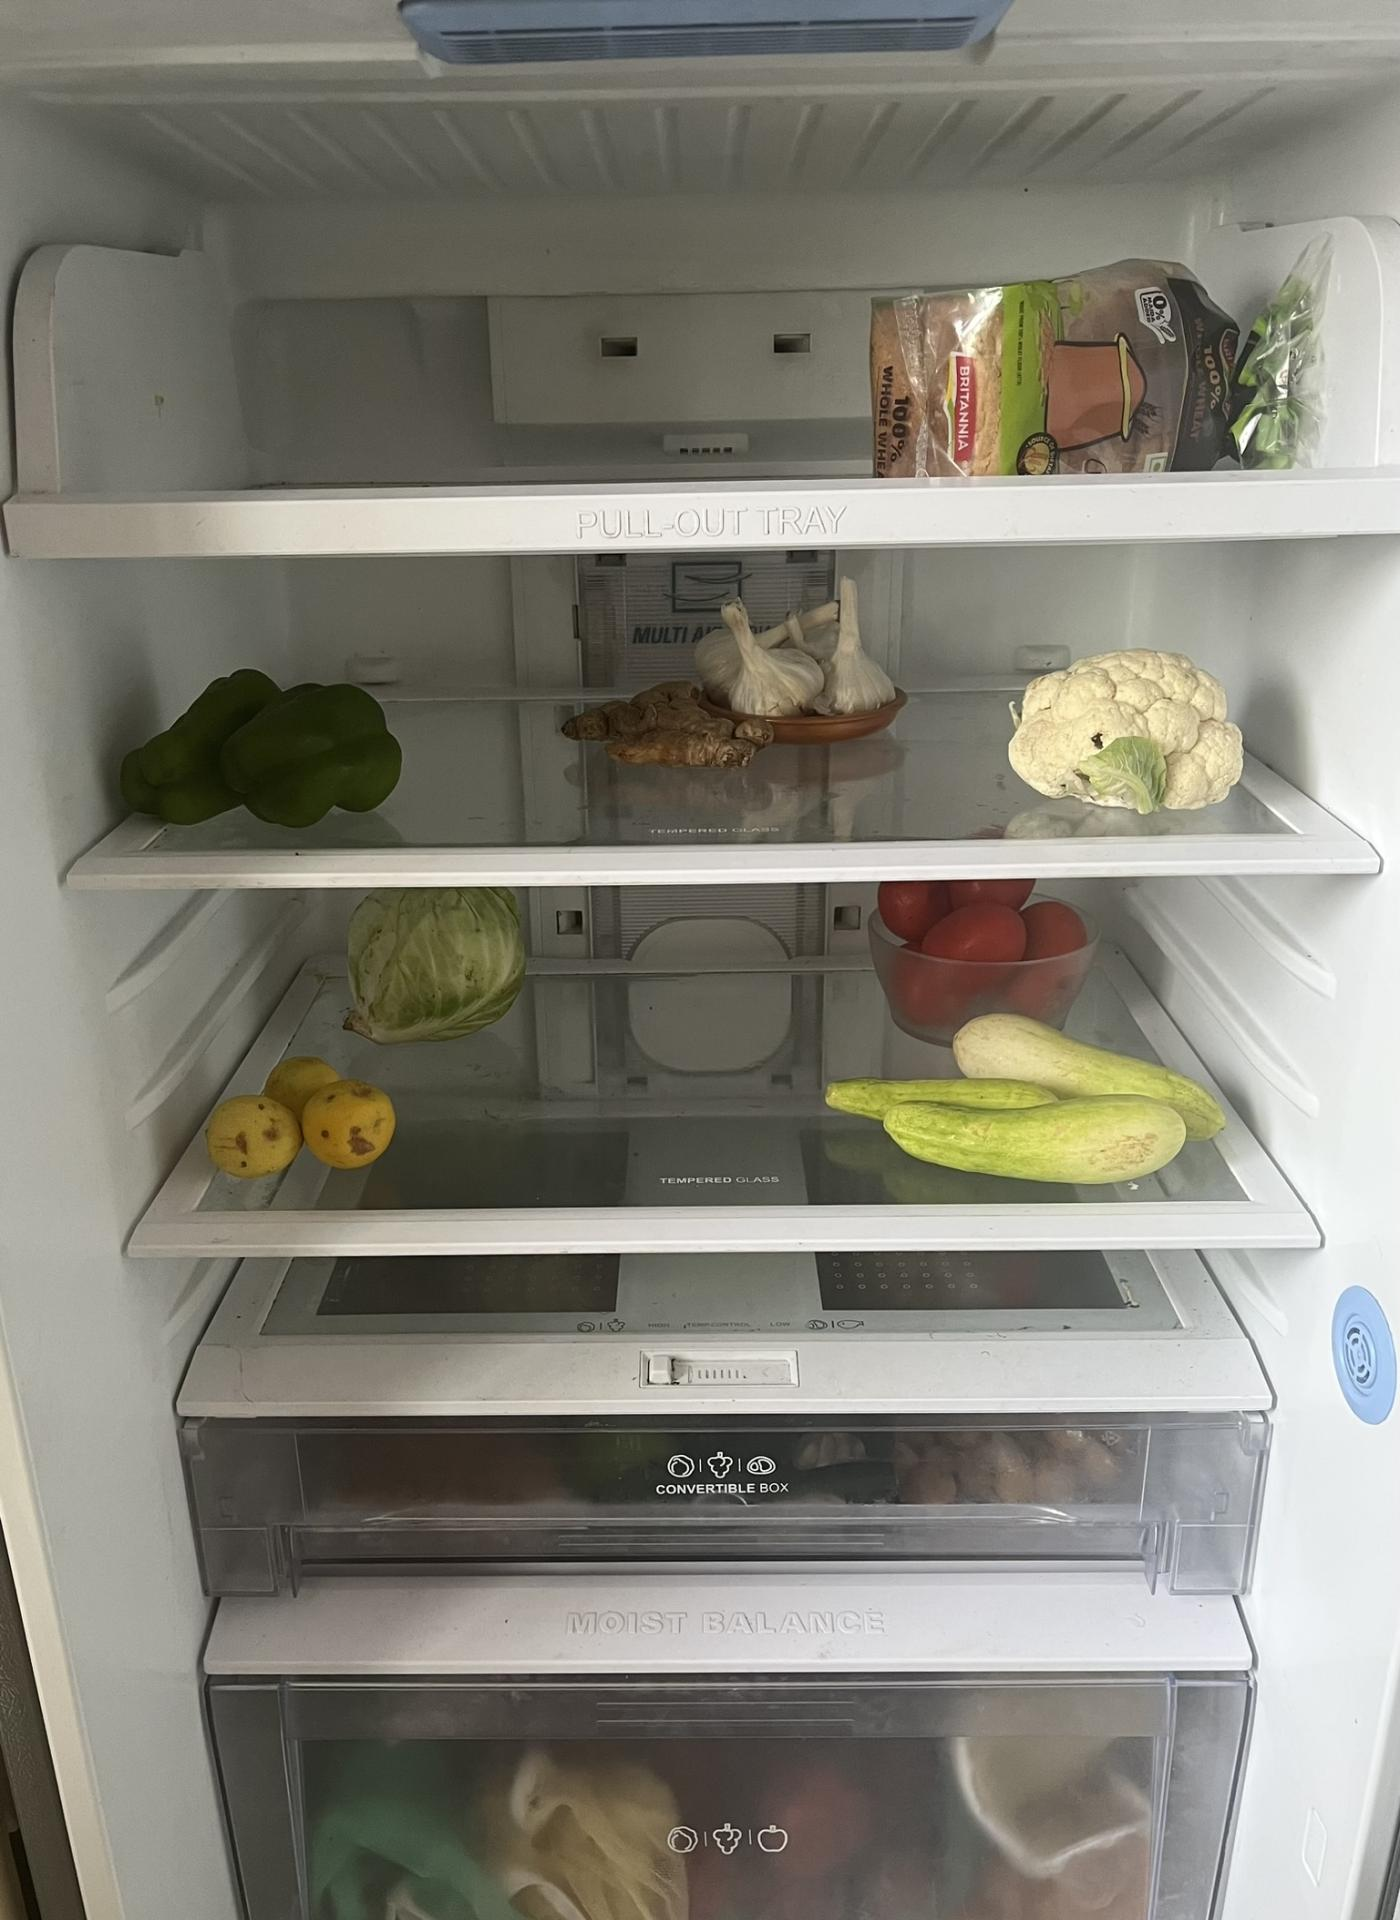bread: (856, 237, 1321, 474)
cabbage: (337, 887, 529, 1046)
capsicum: (100, 632, 437, 860)
cauliflower: (1008, 637, 1257, 824)
cucumber: (817, 1018, 1230, 1194)
garlic: (699, 578, 908, 750)
ginger: (556, 665, 787, 796)
lemon: (207, 1049, 404, 1197)
tomato: (860, 884, 1094, 1038)
